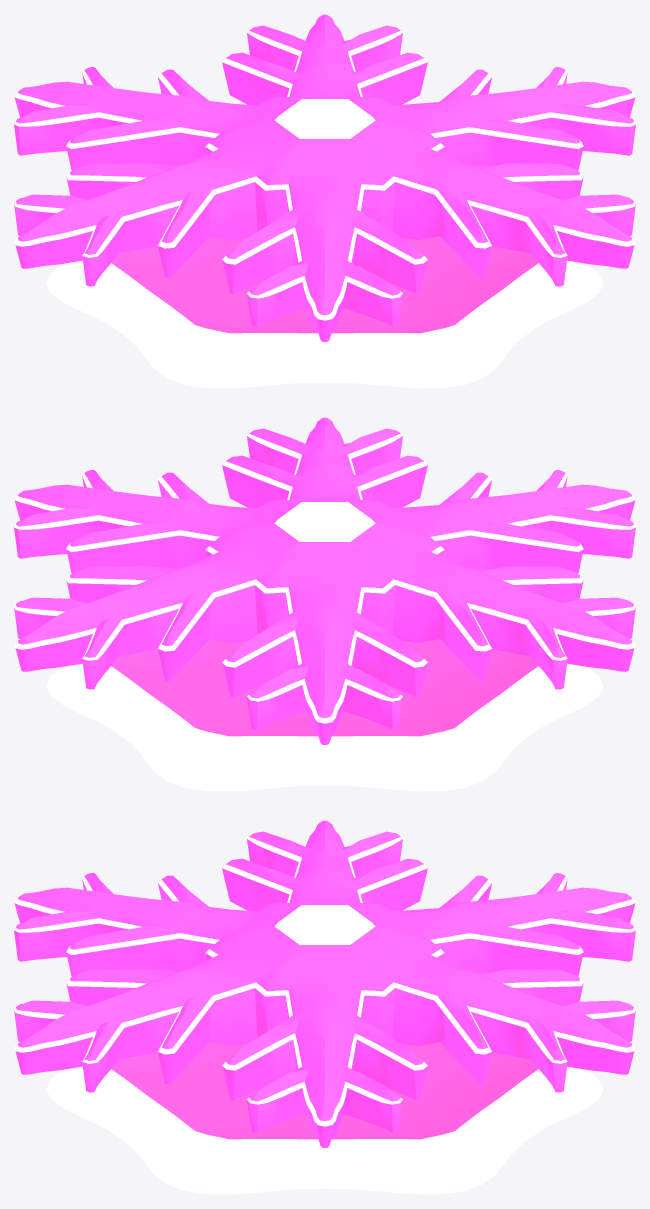
Rendered from Ice_Snowflake_Magenta.glb.
3 views of the same model, one above another, from view 1: azimuth 30°, elevation 25°; view 2: azimuth 150°, elevation 25°; view 3: azimuth 270°, elevation 25° (orthographic).
Visible parts, largest first — view 1: Button_Magenta_Surface, Button_Magenta_Frame; view 2: Button_Magenta_Surface, Button_Magenta_Frame; view 3: Button_Magenta_Surface, Button_Magenta_Frame.
Part boxes in pixels (<box>): Button_Magenta_Surface: <box>14,14,635,341</box>; Button_Magenta_Frame: <box>46,236,603,388</box>; Button_Magenta_Surface: <box>14,417,635,744</box>; Button_Magenta_Frame: <box>46,639,603,791</box>; Button_Magenta_Surface: <box>14,820,635,1147</box>; Button_Magenta_Frame: <box>46,1042,603,1194</box>.
Size of the model in its own units: 2 by 0.525 by 1.74.
